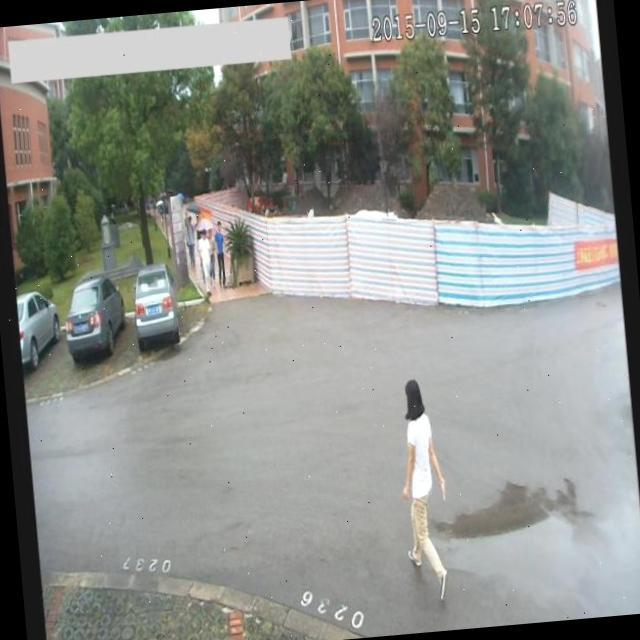person: (388, 371, 458, 603), (197, 227, 216, 300), (212, 217, 231, 286), (184, 211, 198, 268)
